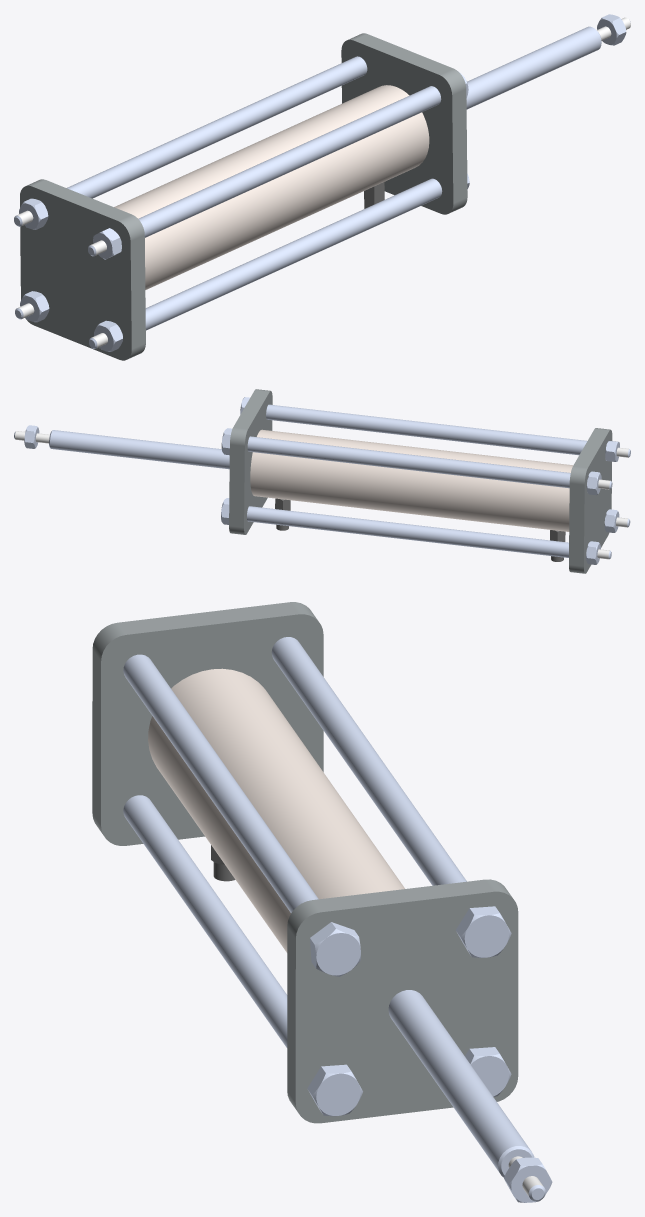
File: Assembly.glb
3 views of the same model, one above another, from view 1: azimuth 30°, elevation 25°; view 2: azimuth 150°, elevation 25°; view 3: azimuth 270°, elevation 25° (orthographic). The views are drawn at different scales.
Visible parts, largest first — view 1: Tube-1, Rear Plate-1, Front Plate-1, Shaft-1, Shaft-2, Shaft-5, Slider Shaft-1, Nut-3, Nut-10, Nut-9, Nut-8, Nut-7; view 2: Tube-1, Shaft-5, Shaft-3, Shaft-1, Rear Plate-1, Slider Shaft-1, Front Plate-1, Nut-3, Nut-10, Nut-8, Nut-9; view 3: Front Plate-1, Tube-1, Rear Plate-1, Shaft-1, Shaft-5, Shaft-2, Slider Shaft-1, Shaft-3, Nut-10.
Part boxes in pixels (left/top/right/bottom): Tube-1: left=114, top=85, right=429, bottom=289; Rear Plate-1: left=20, top=179, right=145, bottom=360; Front Plate-1: left=341, top=33, right=467, bottom=214; Shaft-1: left=88, top=71, right=468, bottom=256; Shaft-2: left=89, top=173, right=469, bottom=348; Shaft-5: left=14, top=56, right=367, bottom=226; Slider Shaft-1: left=466, top=17, right=630, bottom=109; Nut-3: left=19, top=198, right=48, bottom=229; Nut-10: left=597, top=14, right=626, bottom=45; Nut-9: left=20, top=291, right=49, bottom=322; Nut-8: left=94, top=320, right=122, bottom=351; Nut-7: left=93, top=228, right=121, bottom=259; Tube-1: left=250, top=429, right=573, bottom=531; Shaft-5: left=221, top=428, right=612, bottom=489; Shaft-3: left=221, top=498, right=611, bottom=559; Shaft-1: left=240, top=397, right=630, bottom=457; Rear Plate-1: left=569, top=428, right=612, bottom=573; Slider Shaft-1: left=14, top=430, right=229, bottom=469; Front Plate-1: left=229, top=389, right=272, bottom=534; Nut-3: left=586, top=471, right=601, bottom=495; Nut-10: left=24, top=425, right=39, bottom=448; Nut-8: left=604, top=509, right=619, bottom=532; Nut-9: left=586, top=541, right=600, bottom=564; Front Plate-1: left=287, top=879, right=518, bottom=1123; Tube-1: left=148, top=668, right=404, bottom=952; Rear Plate-1: left=92, top=602, right=323, bottom=845; Shaft-1: left=123, top=654, right=360, bottom=976; Shaft-5: left=271, top=637, right=511, bottom=957; Shaft-2: left=123, top=795, right=362, bottom=1116; Slider Shaft-1: left=388, top=990, right=545, bottom=1201; Shaft-3: left=465, top=1047, right=511, bottom=1097; Nut-10: left=504, top=1157, right=552, bottom=1202.
Bounding box in the file's own units: 0.4758 × 0.1014 × 0.1788.
